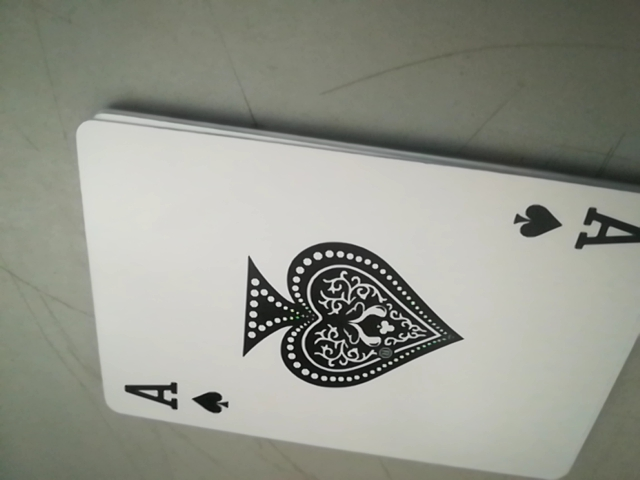ht a: (508, 191, 640, 266), (116, 378, 234, 420)
